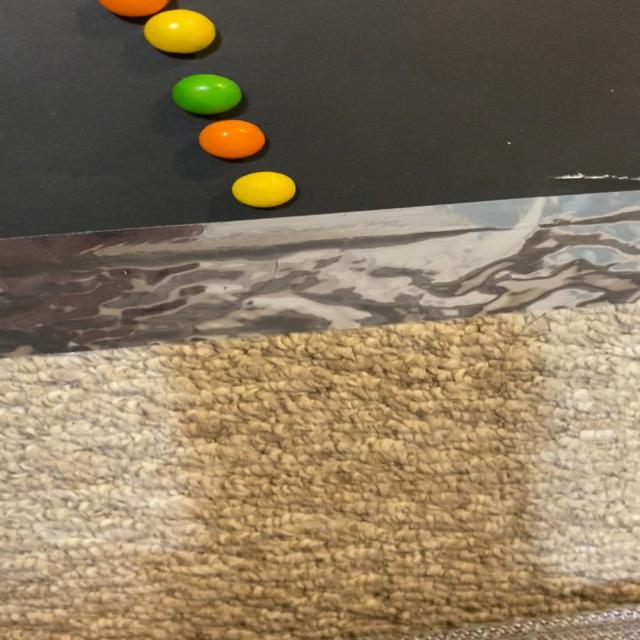smartie: (143, 8, 215, 52), (171, 74, 241, 114), (198, 119, 264, 158), (231, 171, 295, 207)
